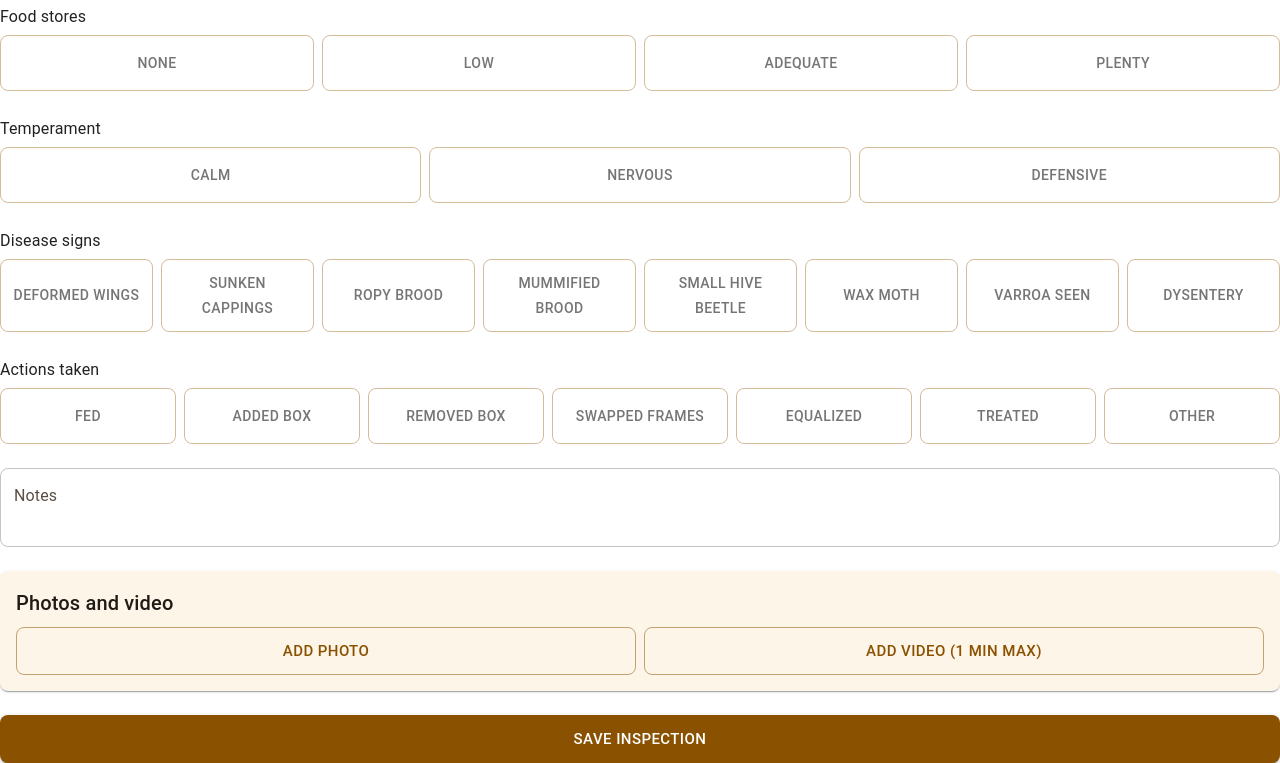
it: CaptureScreen structured fields › should record a note alone when nothing was answered
(page scrolled)
Type "Gate was open" into the text box labelled "Notes" at (640, 508), box [14,484,1266,530]
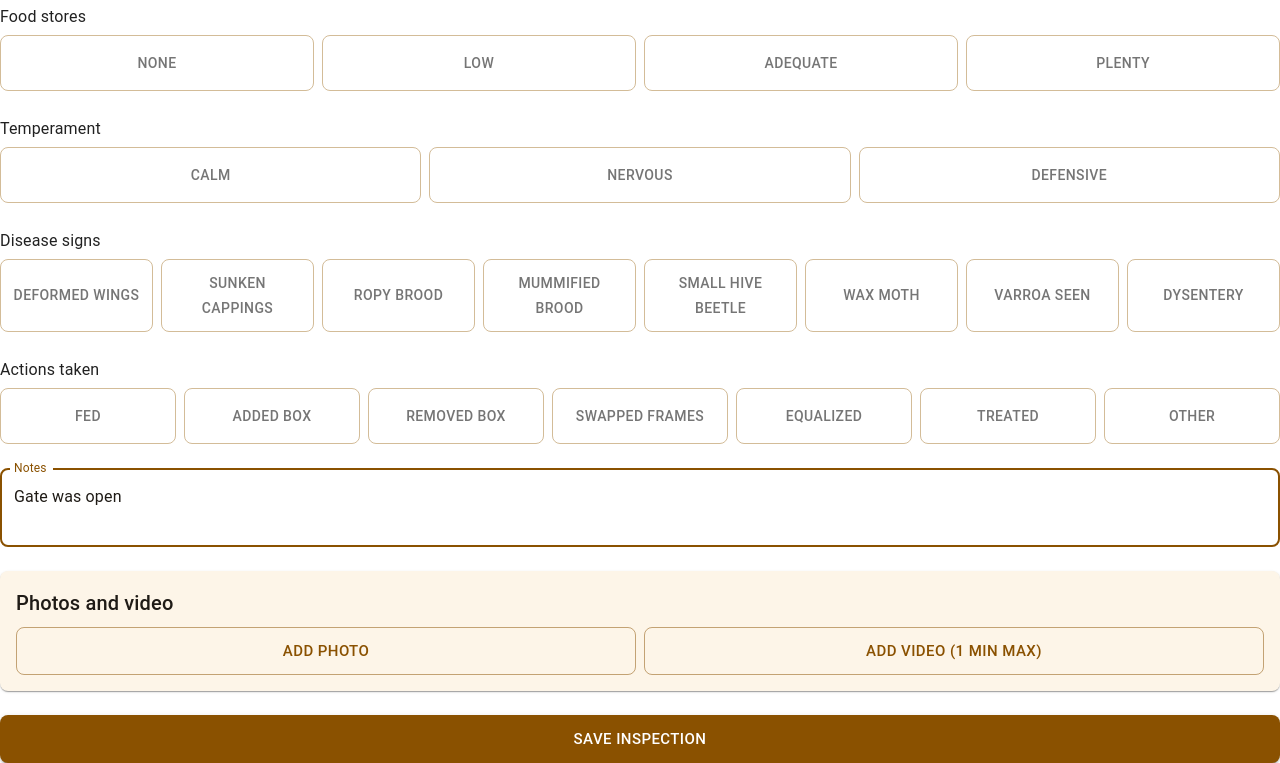
Click the button "Save inspection" at (640, 739), box [0,715,1279,762]
(page scrolled)
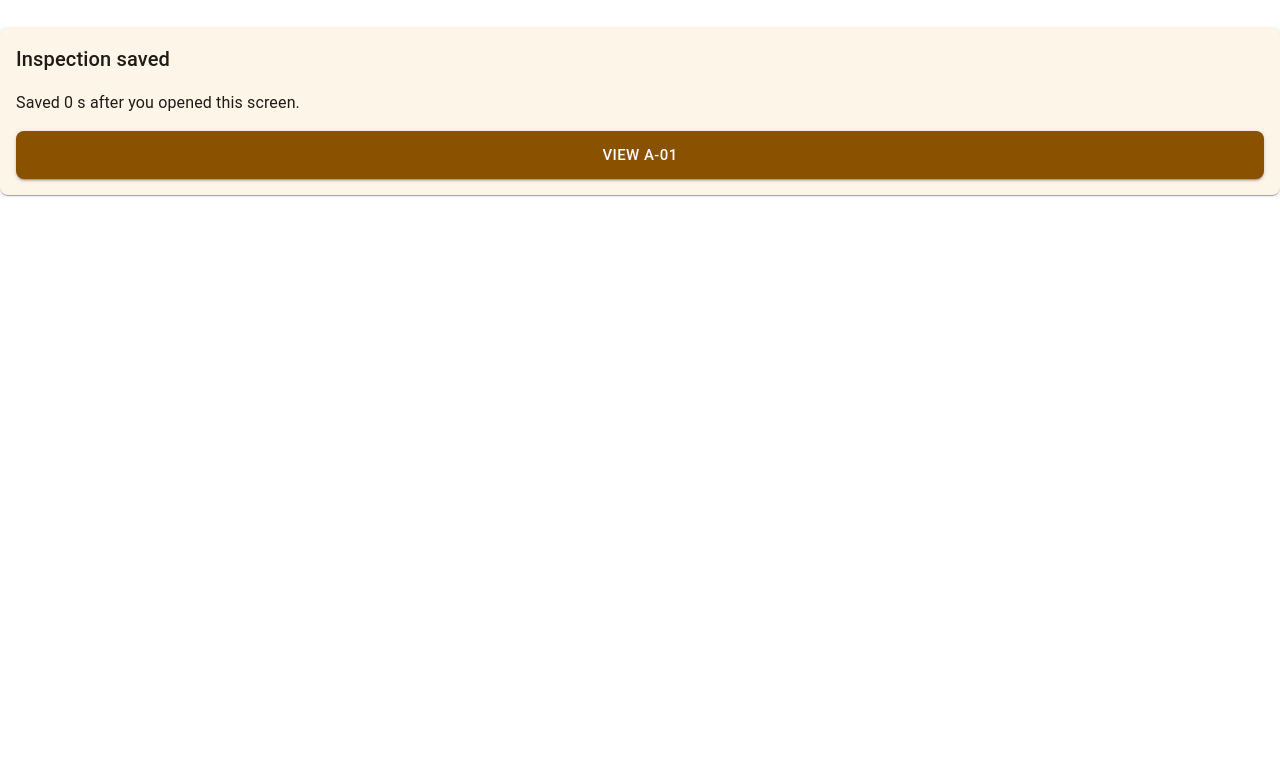
Check: the heading "Inspection saved" is shown, box [16,47,170,71]
